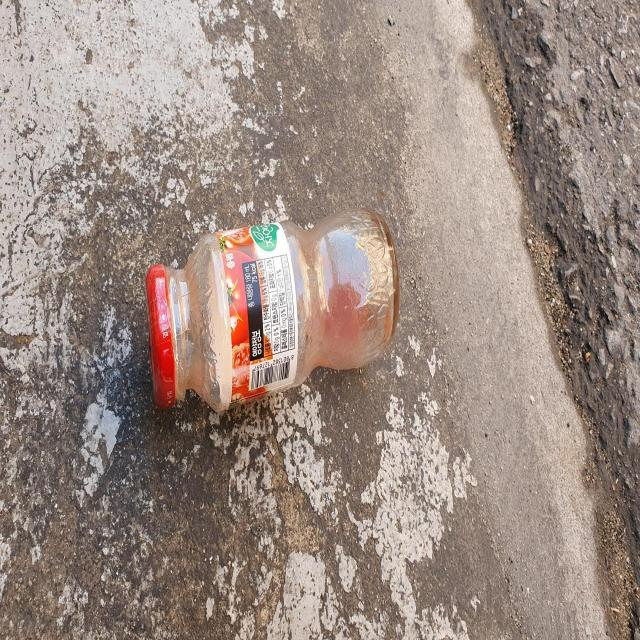glass: (145, 208, 399, 412)
